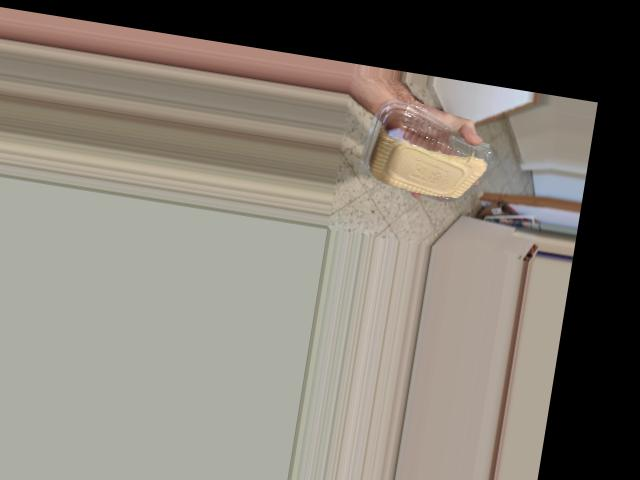cheese: (352, 119, 466, 189)
